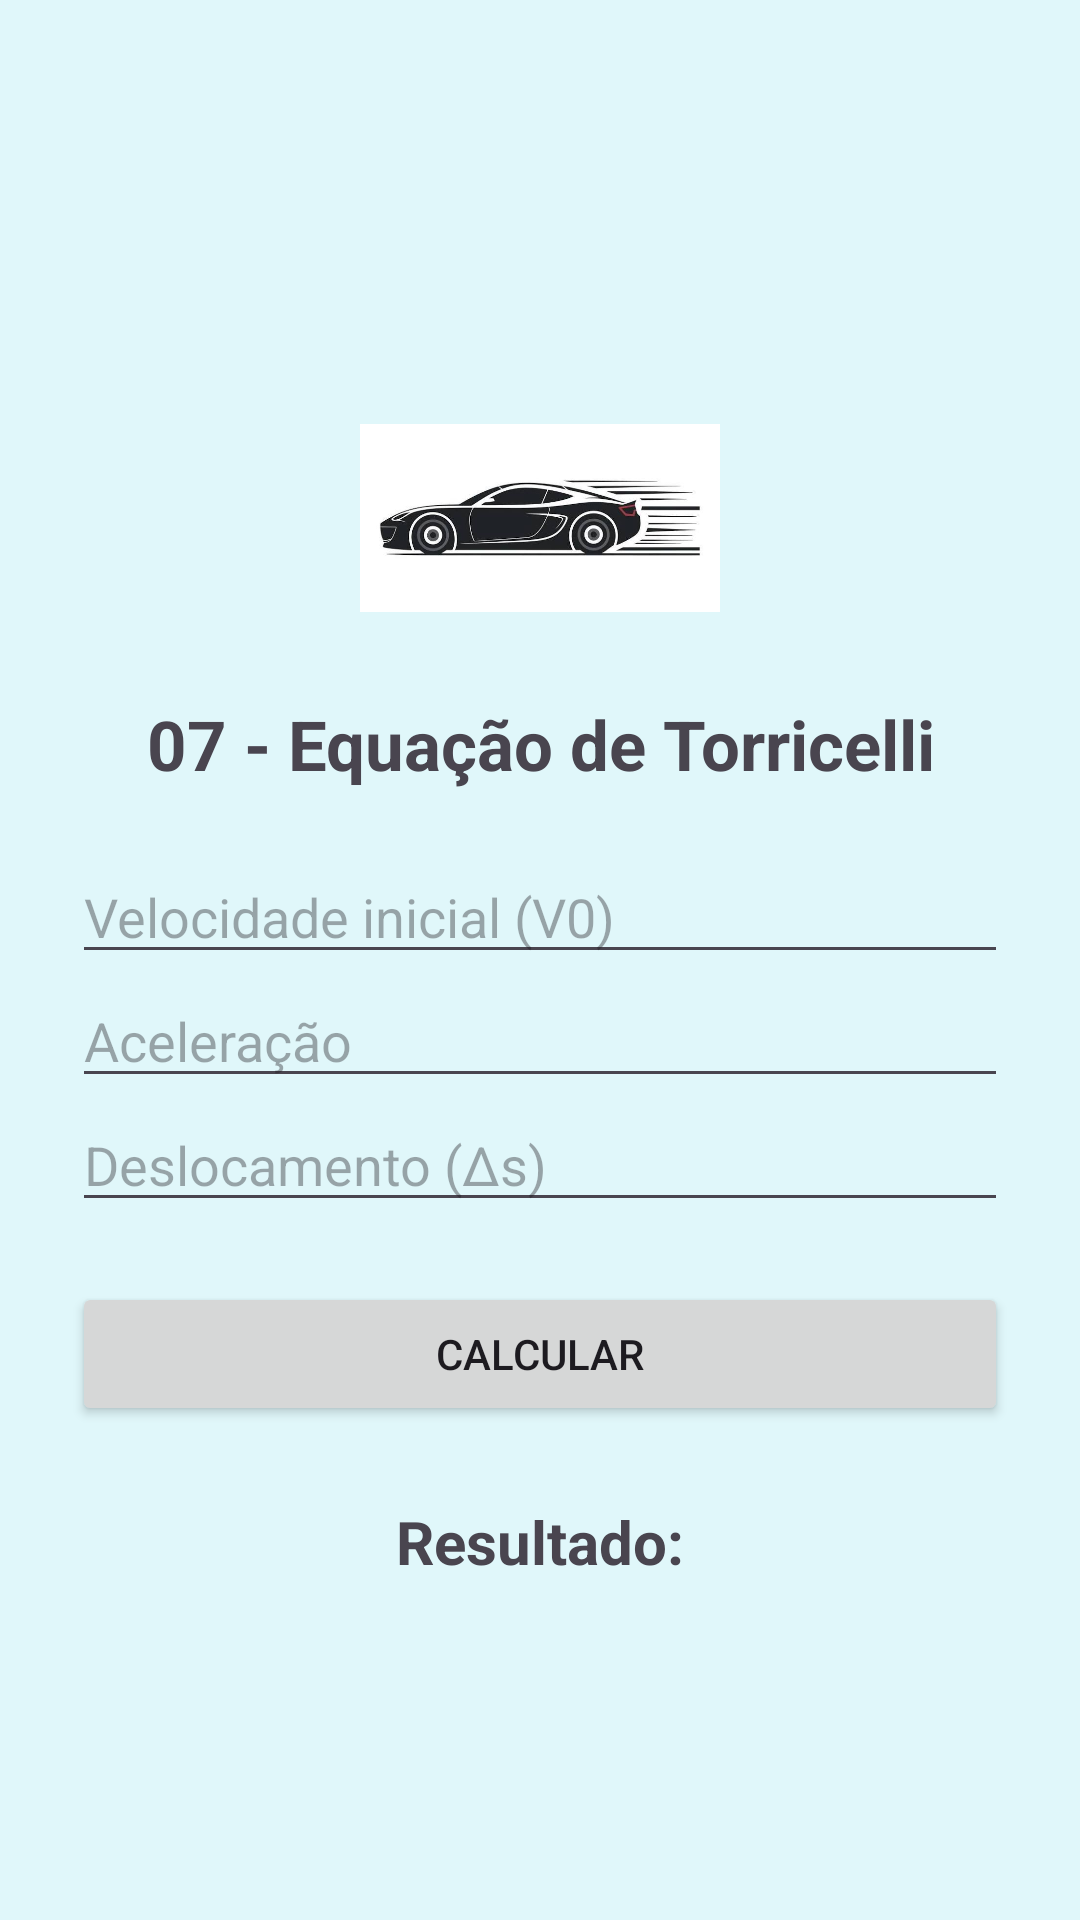

Locate icon controls on the screen. Image size 1080 x 1920, boxes as {"left": x1, "top": y1, "right": x2, "bottom": y2}.
Imagem de movimento: {"left": 360, "top": 424, "right": 720, "bottom": 612}
